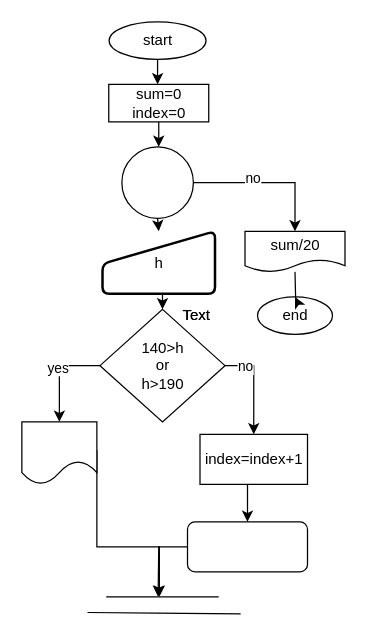
The diagram is 368 pixels wide and 638 high, and some of its shapes have lost their labels. The centre of each missing label's shape, as x and y in pixels:
"לא חוקי": point (59, 452)
index<20: point (157, 182)
sum=sum+h: point (247, 546)
